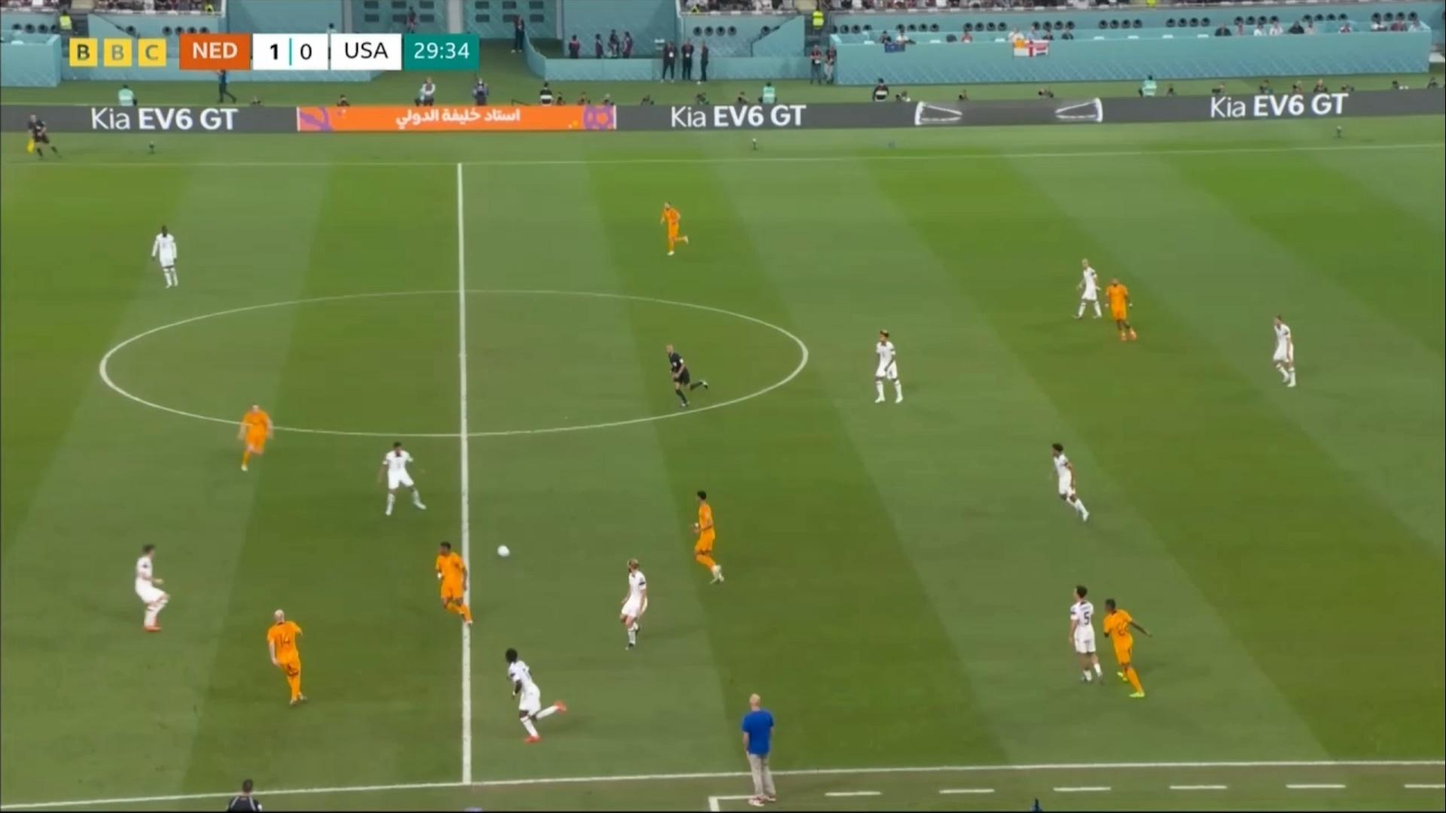Ball: (496, 544, 511, 561)
Player: (496, 646, 560, 742), (262, 607, 318, 708), (125, 540, 179, 638), (1097, 600, 1148, 702), (1057, 586, 1106, 685), (374, 437, 429, 521), (685, 490, 730, 590), (610, 558, 655, 654), (741, 693, 777, 807), (427, 540, 471, 630), (1048, 442, 1089, 525), (236, 400, 278, 481), (870, 330, 909, 411), (1268, 311, 1306, 392), (1099, 273, 1137, 347), (152, 224, 185, 294), (659, 198, 692, 260), (1071, 260, 1105, 320)
Ref: (661, 338, 710, 412), (26, 108, 58, 163)
